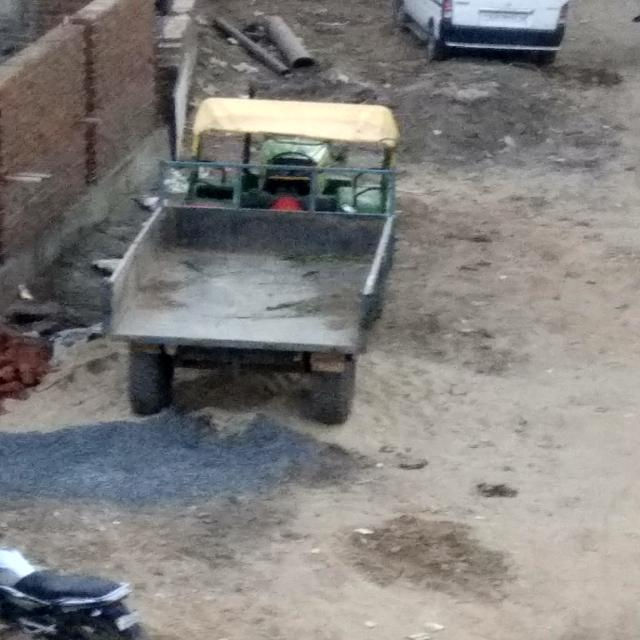Bike: (0, 527, 141, 640)
Tractor: (104, 98, 398, 416)
cars: (378, 0, 578, 71)
